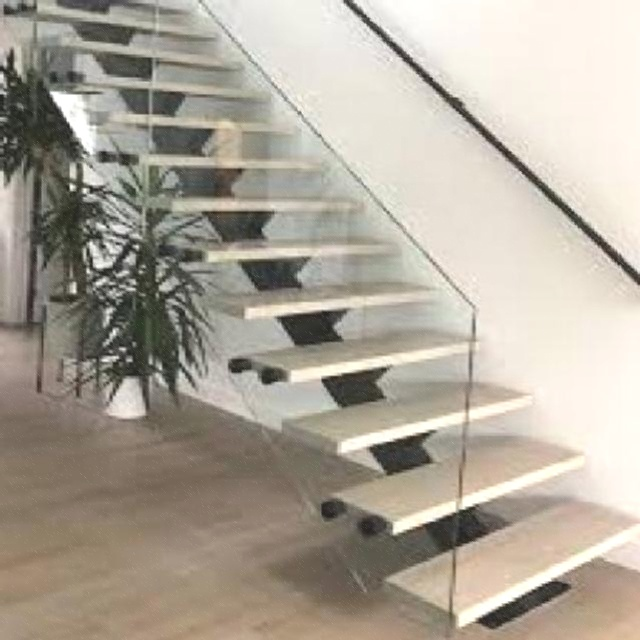stair: (1, 0, 640, 640)
